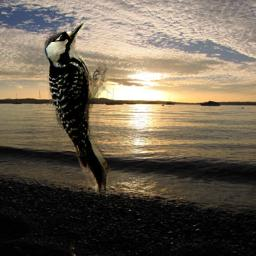Woodpecker: (36, 17, 123, 208)
